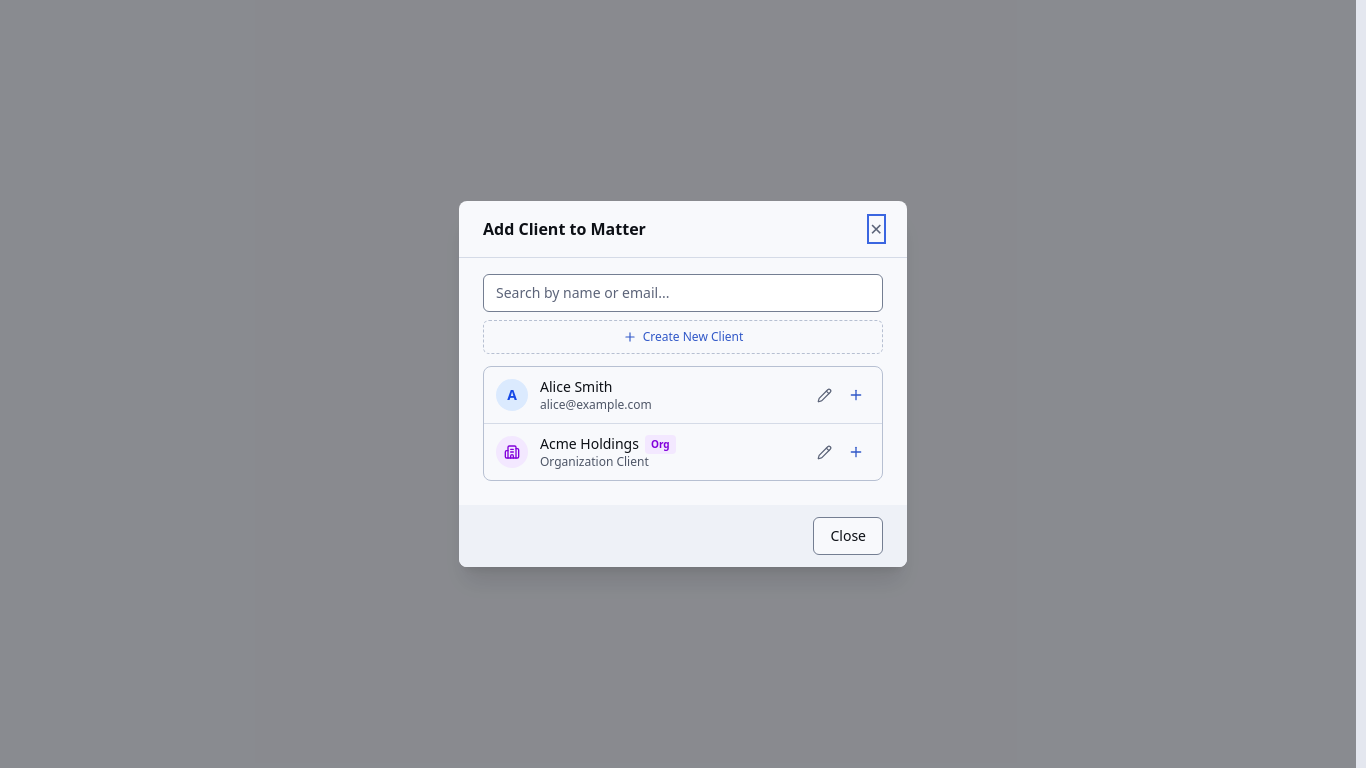
the client type when editing an existing client › keeps the type picker when creating a new client
Click the button "Create New Client". click: (683,337)
box: [483,320,883,354]
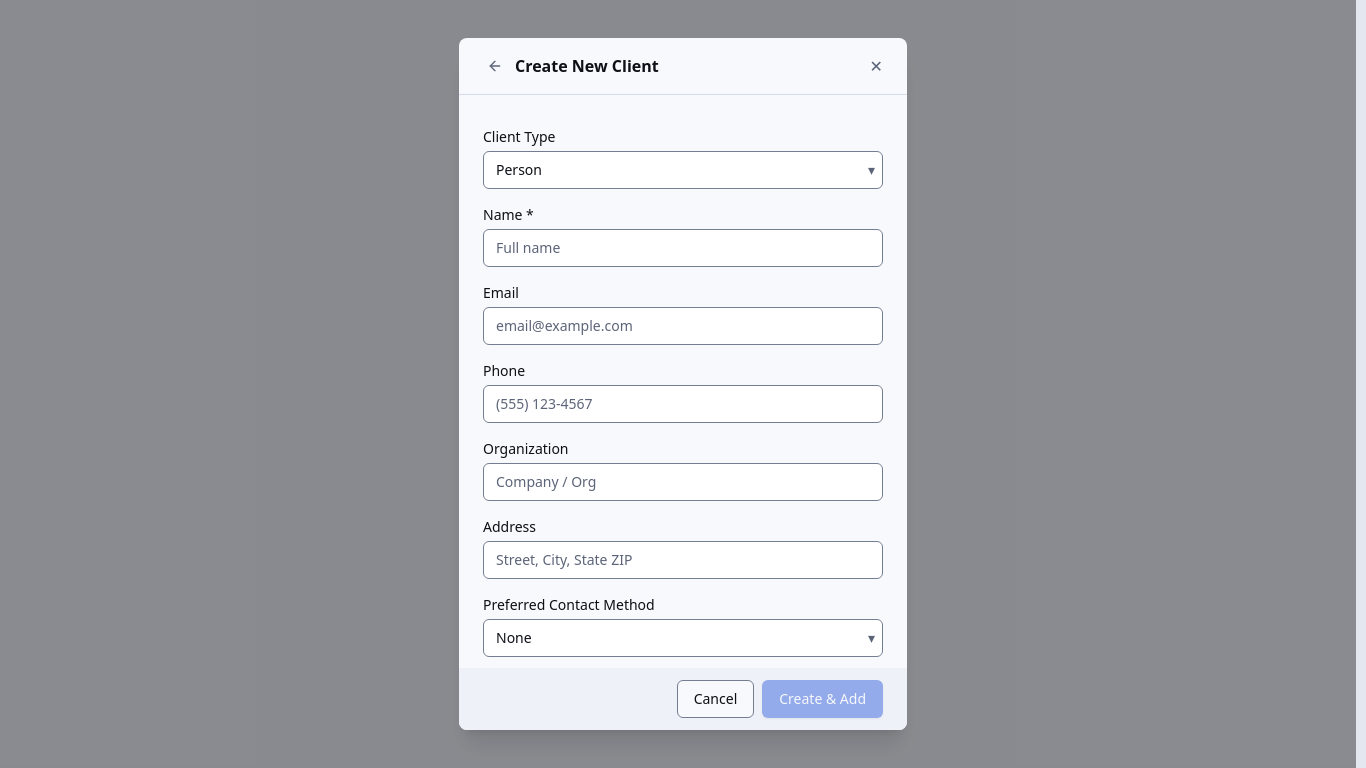
Check: the button named "Client Type" is shown, box [483,151,883,189]
